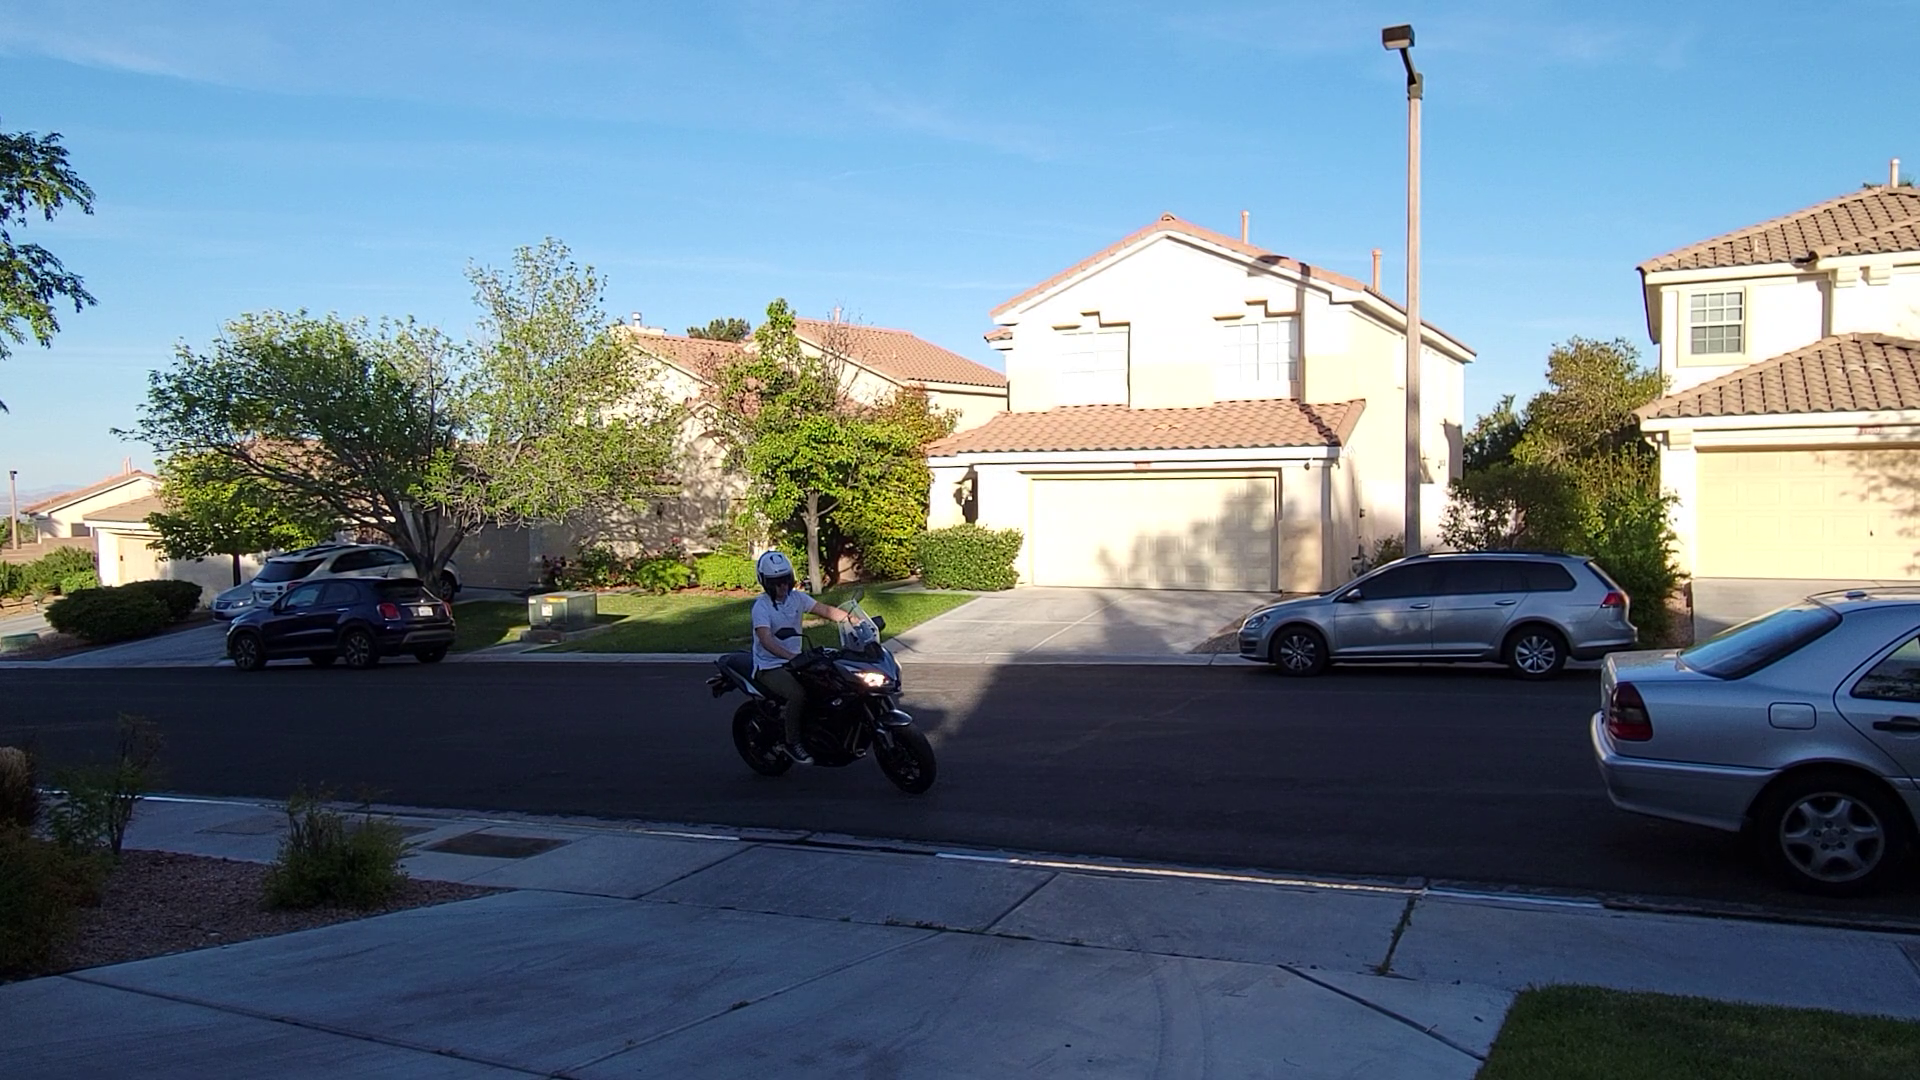my bike: (699, 546, 939, 796)
